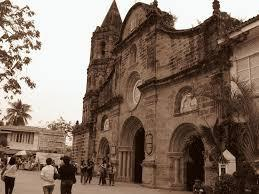barasoain_church_malolos_bulacan: (73, 1, 234, 186)
